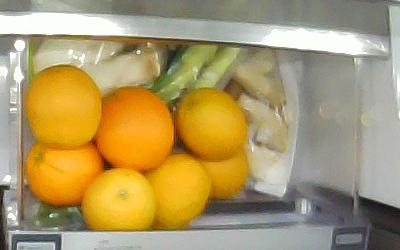orange: (94, 86, 175, 171), (25, 65, 103, 148), (26, 138, 105, 205), (176, 89, 248, 162), (143, 153, 211, 226), (82, 167, 155, 229), (186, 146, 248, 198)
